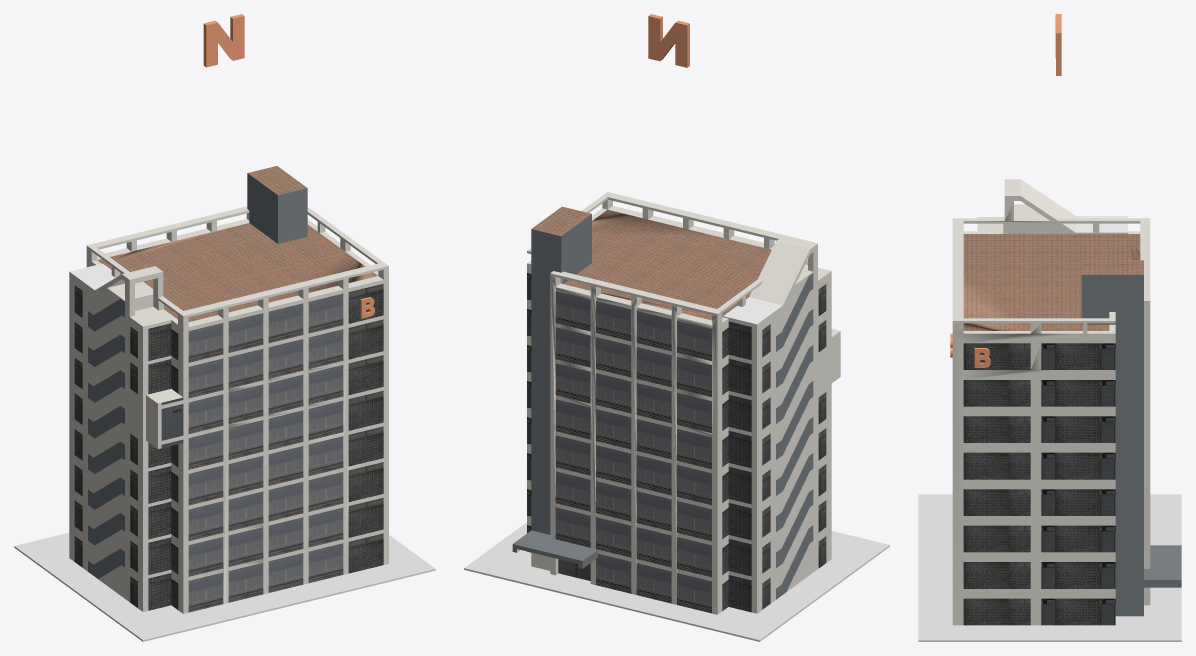
3 views of the same model, side by side, from view 1: azimuth 30°, elevation 25°; view 2: azimuth 150°, elevation 25°; view 3: azimuth 270°, elevation 25° (orthographic). The views are drawn at different scales.
Visible parts, largest first — view 1: Group2, Group1, N1; view 2: Group2, Group1, N1; view 3: Group2, Group1, N1.
Boxes of the visible parts, <box> form: Group2: <box>69,166,388,613</box>; Group1: <box>14,532,435,641</box>; N1: <box>203,14,244,67</box>; Group2: <box>512,192,840,614</box>; Group1: <box>464,522,889,641</box>; N1: <box>648,14,689,67</box>; Group2: <box>952,179,1181,625</box>; Group1: <box>918,494,1181,641</box>; N1: <box>1055,14,1061,75</box>.
Bounding box in the file's own units: 229 × 400 × 175.
27 materials, 22 textured.
